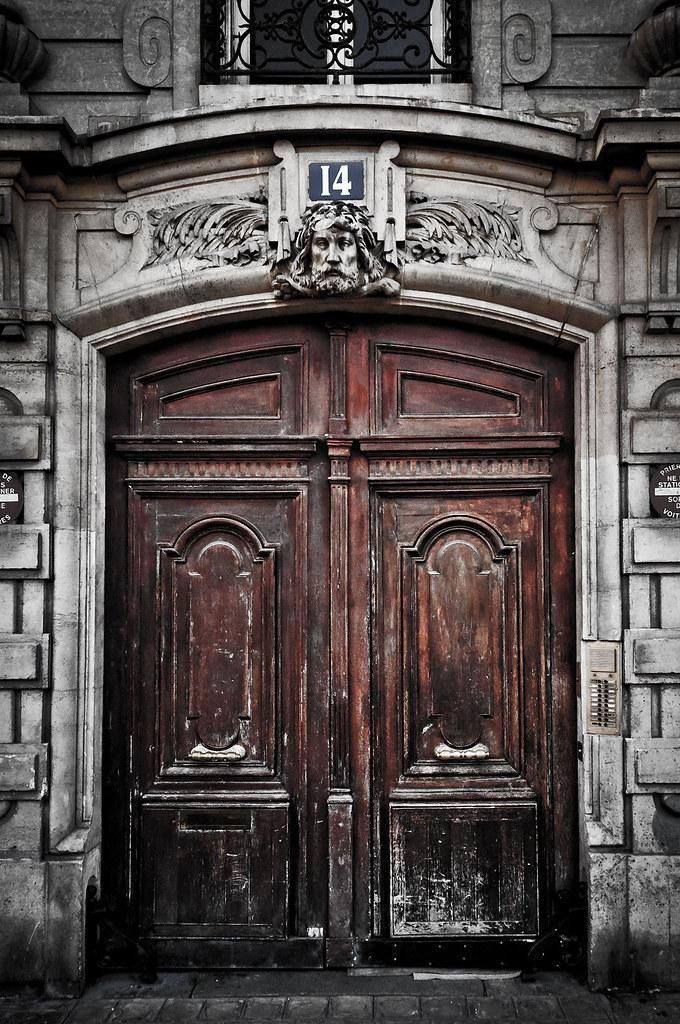door: (102, 310, 581, 975)
